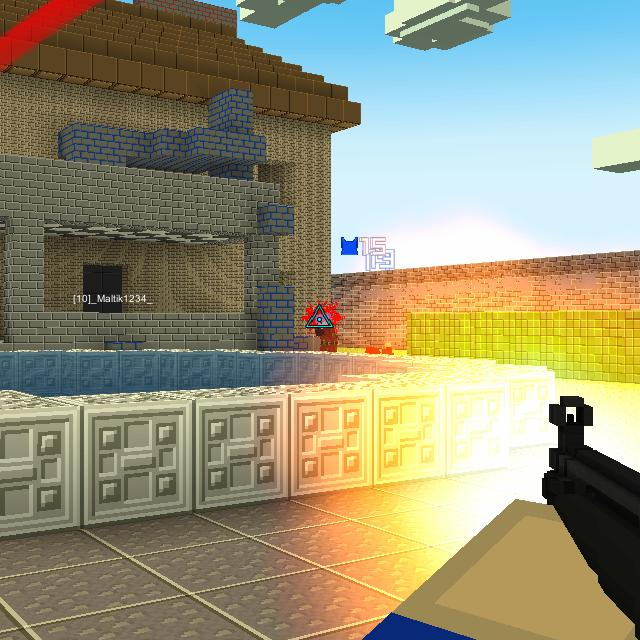enemy: (316, 309, 340, 352)
